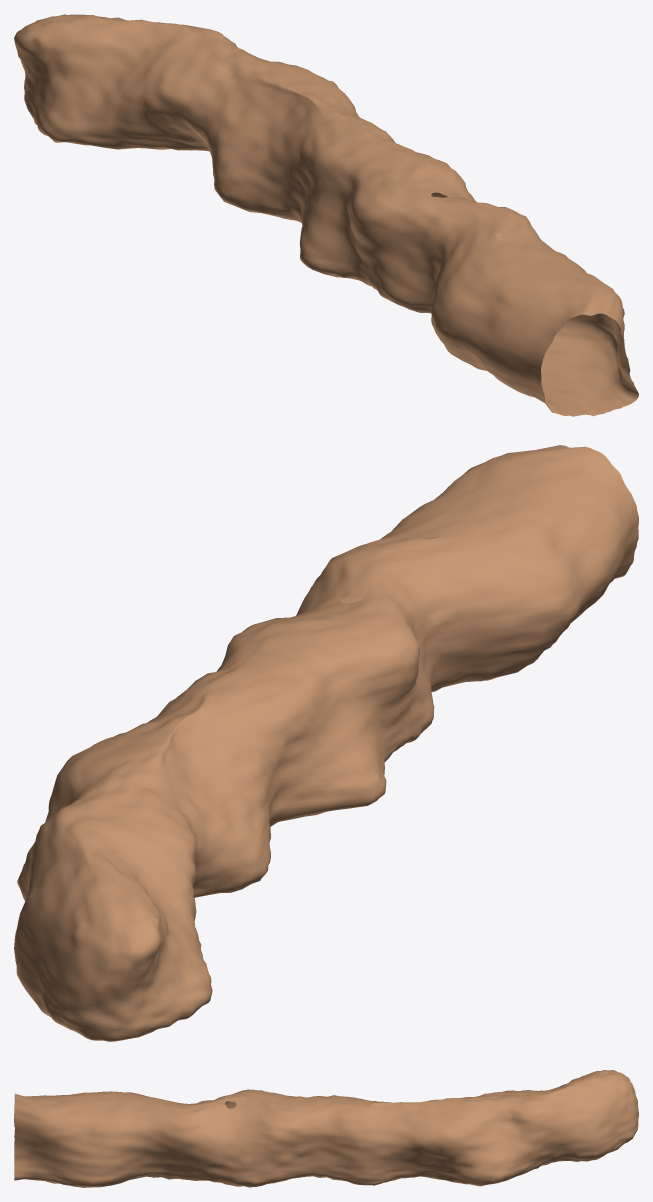
Rendered from CaveUpdated 1.fbx.
The picture shows the model from 3 angles, top to bottom: view 1: azimuth 30°, elevation 25°; view 2: azimuth 150°, elevation 25°; view 3: azimuth 270°, elevation 25°; orthographic projection. The views are drawn at different scales.
Visible parts, largest first — view 1: Cube; view 2: Cube; view 3: Cube.
Boxes of the visible parts, bbox=[...] form: Cube: bbox=[14, 14, 638, 416]; Cube: bbox=[14, 445, 638, 1041]; Cube: bbox=[14, 1070, 638, 1187].
Bounding box in the file's own units: 1075 × 515 × 4058.
